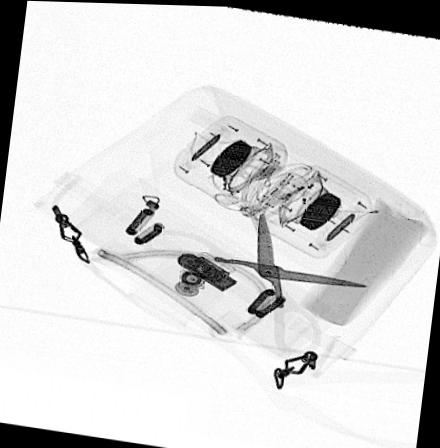Scissors: (138, 206, 368, 353)
